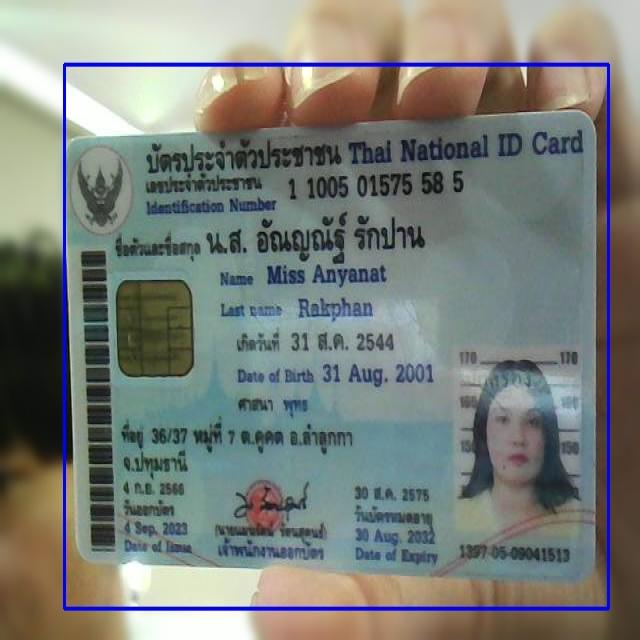Address_th: (114, 411, 360, 482)
Date_of_Birth: (318, 358, 436, 391)
Date_of_Expiry: (350, 522, 436, 549)
Date_of_Issue: (120, 519, 191, 539)
First_Name: (260, 263, 392, 289)
ID_Number: (285, 169, 470, 204)
Image: (461, 349, 582, 543)
Last_Name: (292, 293, 374, 326)
Thai_Name: (202, 210, 432, 264)
